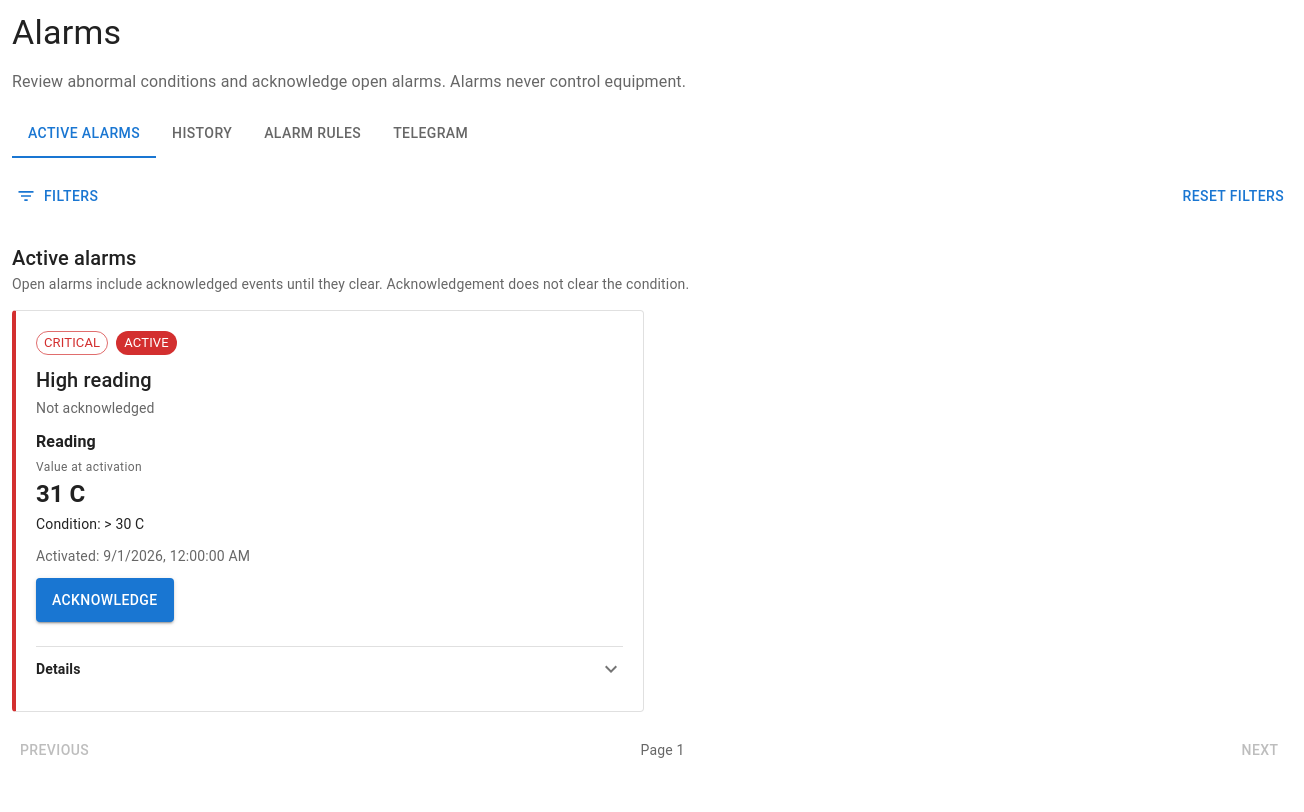
Test: responsive alarm events › renders accessible cards at 360px with filters appropriate to the breakpoint
Expected: the text "31 C" is shown, 36,480 -> 85,508
Expected: the text "Value at activation" is shown, 36,460 -> 142,474
Click the button "Filters": [59, 196] box 12,174 -> 106,218
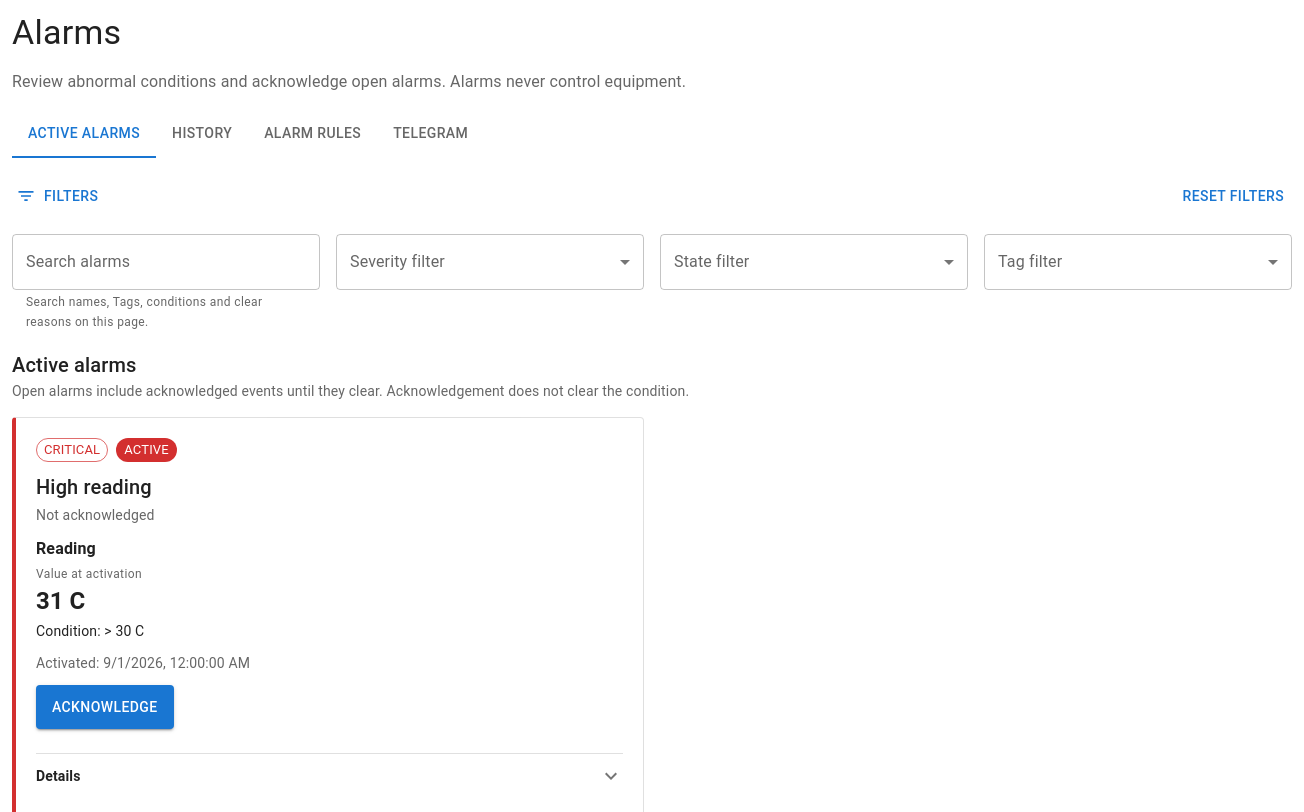
Expected: the field labelled "Search alarms" is shown, 12,234 -> 320,290
